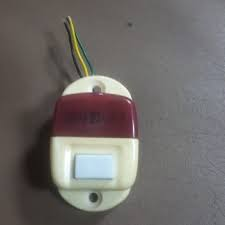bell: (47, 74, 143, 213)
